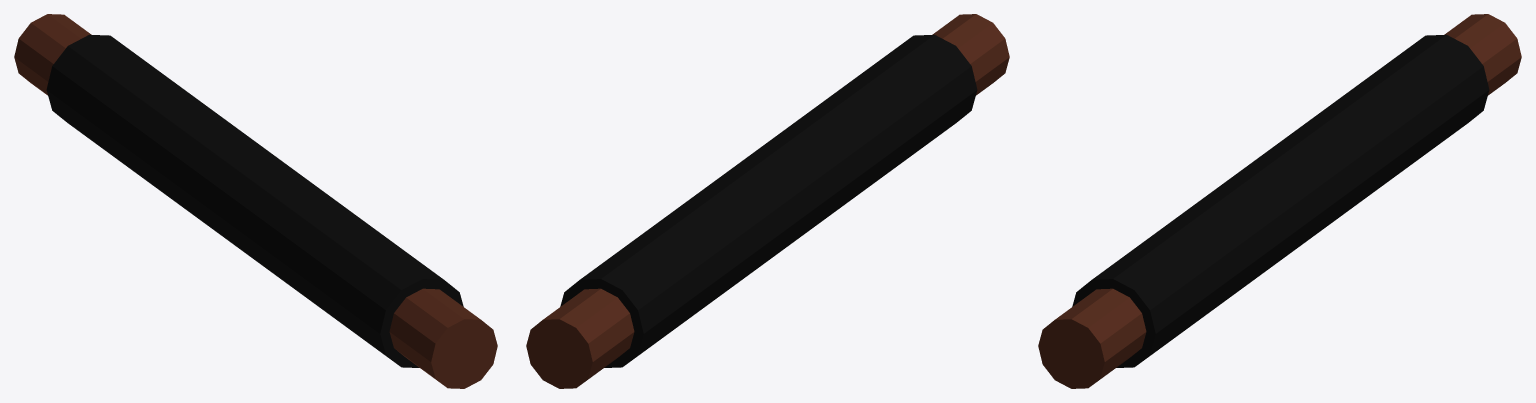
The model's file is cablepiece.fbx.
The picture shows the model from 3 angles, left to right: view 1: azimuth 30°, elevation 25°; view 2: azimuth 150°, elevation 25°; view 3: azimuth 330°, elevation 25°; orthographic projection.
Parts seen in each view (by area): view 1: cable piece, wire; view 2: cable piece, wire; view 3: cable piece, wire.
Boxes of the visible parts, x1,y1,x2,y2 form: cable piece: [46, 34, 463, 367]; wire: [14, 14, 497, 388]; cable piece: [560, 34, 977, 367]; wire: [526, 14, 1009, 388]; cable piece: [1072, 34, 1489, 367]; wire: [1038, 14, 1521, 388].
Size of the model in its own units: 2.93 by 2.93 by 24.83.
